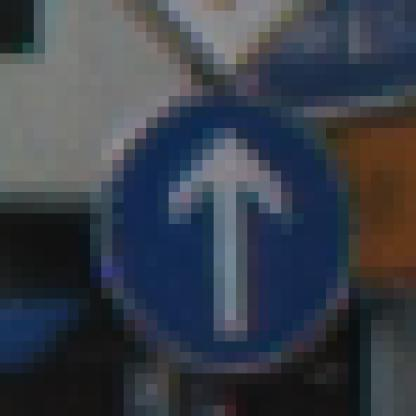AheadOnly: (69, 65, 350, 364)
